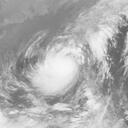cyclone: (24, 44, 82, 99)
